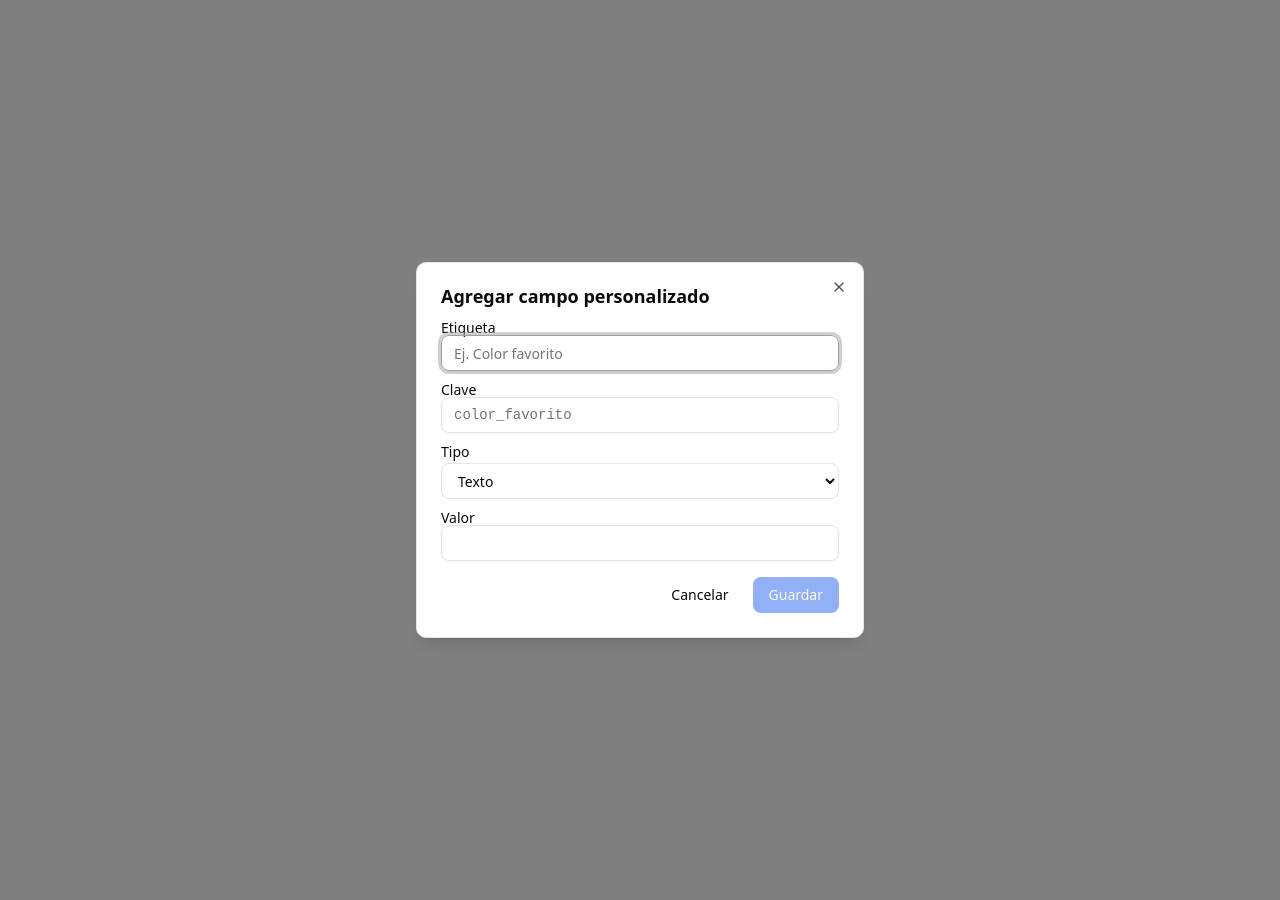
it: AddCustomAttrDialog › auto-slugifies the key from the label
This screenshot has width=1280, height=900.
Type "Color Favorito" into the field labelled "Etiqueta". click: (640, 353)
box: [441,335,839,371]
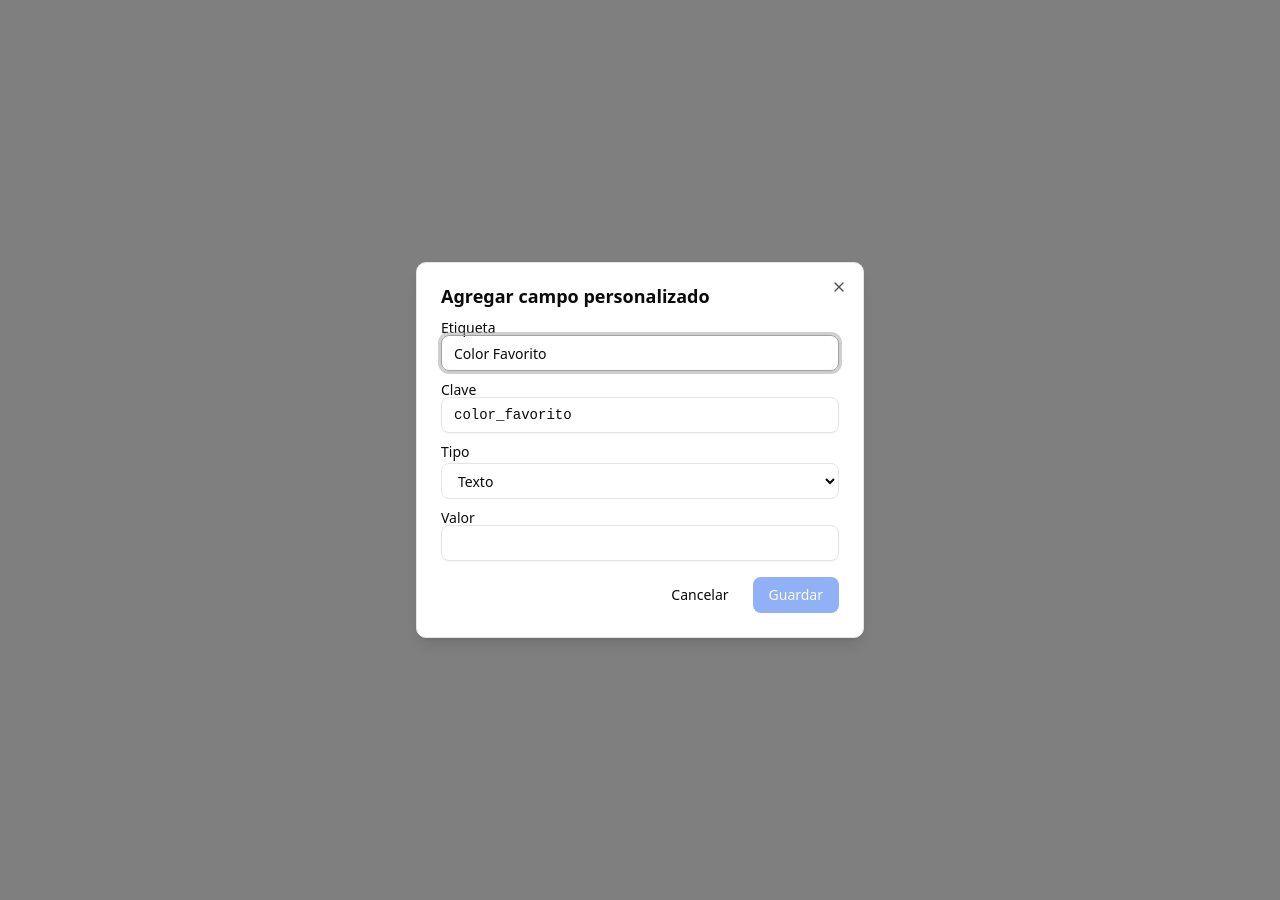
Expected: the field labelled "Clave" holds "color_favorito", [441,397,839,433]
